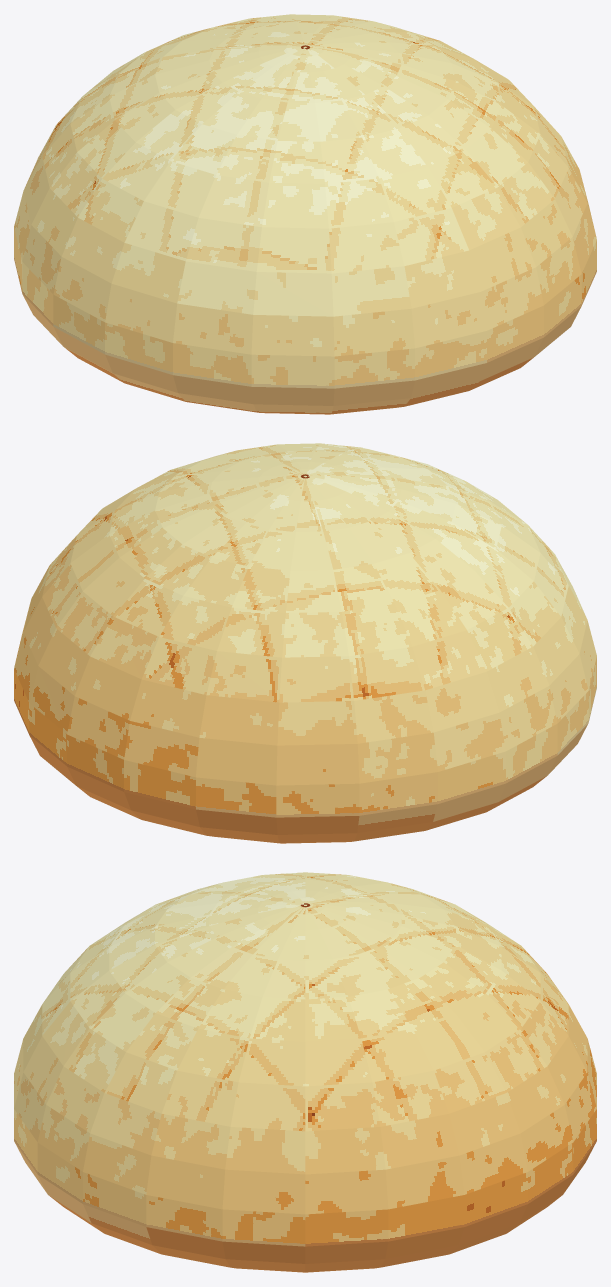
The model's file is squishy.glb.
3 views of the same model, one above another, from view 1: azimuth 30°, elevation 25°; view 2: azimuth 150°, elevation 25°; view 3: azimuth 270°, elevation 25° (orthographic).
Parts seen in each view (by area): view 1: bun; view 2: bun; view 3: bun.
Boxes of the visible parts, x1=… form: bun: x1=14, y1=14, x2=596, y2=414; bun: x1=14, y1=443, x2=596, y2=843; bun: x1=14, y1=872, x2=596, y2=1272.
Size of the model in its own units: 31 by 15.8 by 31.
1 material, 1 textured.
